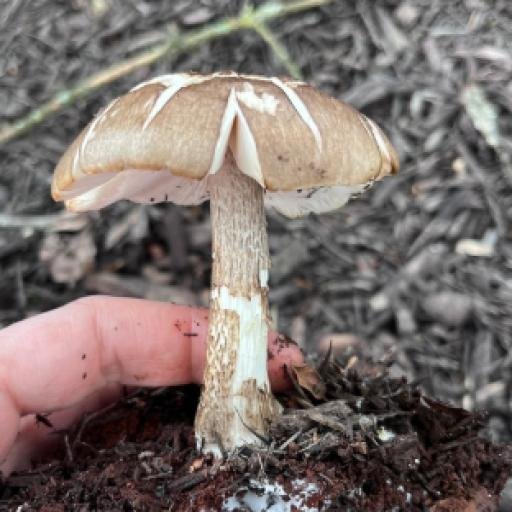Shiitake Mushroom: (36, 5, 478, 468)
